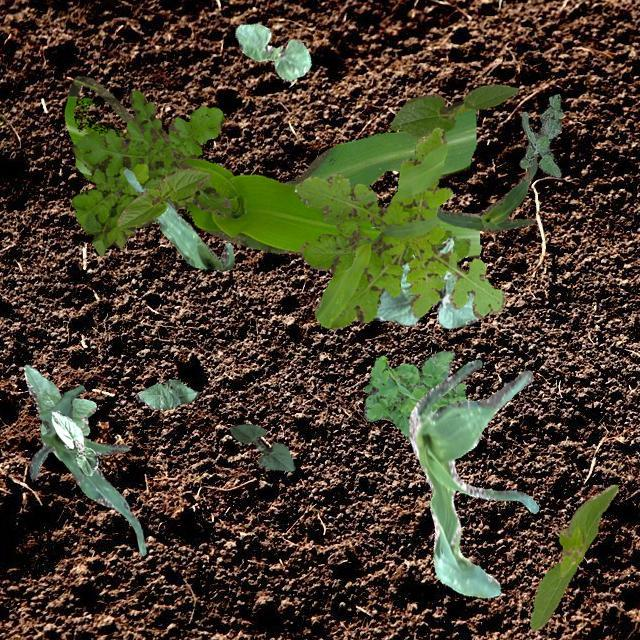crop: (63, 75, 480, 258), (408, 358, 538, 596), (29, 383, 144, 554), (528, 484, 616, 628), (122, 168, 232, 268), (372, 235, 478, 326), (434, 152, 536, 232), (22, 364, 94, 459), (390, 84, 518, 136), (116, 168, 210, 226), (234, 22, 310, 80), (51, 410, 98, 476), (230, 422, 294, 470), (134, 378, 197, 409)
weed: (294, 126, 504, 328), (70, 90, 230, 256), (298, 214, 468, 276), (362, 350, 466, 440), (518, 94, 562, 175)
